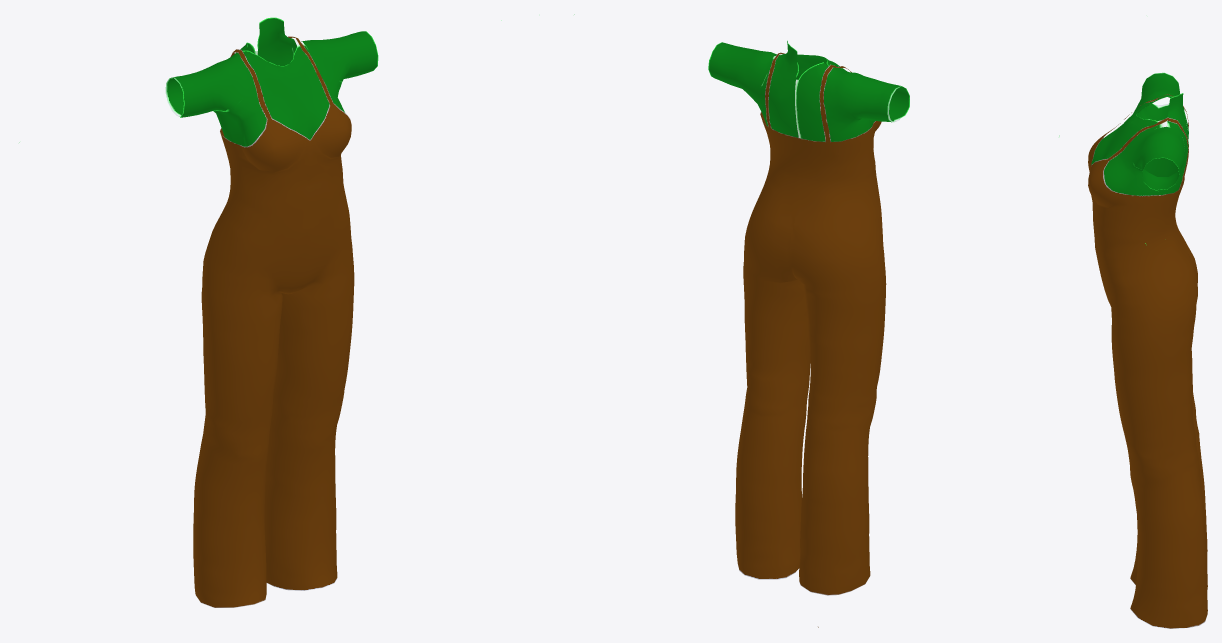
Rendered from chest-ranger.glb.
The picture shows the model from 3 angles, left to right: view 1: azimuth 30°, elevation 25°; view 2: azimuth 150°, elevation 25°; view 3: azimuth 270°, elevation 25°; orthographic projection. The views are drawn at different scales.
Visible parts, largest first — view 1: chest-ranger; view 2: chest-ranger; view 3: chest-ranger.
Part boxes in pixels (x1,y1,x2,y2): chest-ranger: [19, 17, 501, 607]; chest-ranger: [574, 14, 1059, 627]; chest-ranger: [1088, 72, 1207, 628].
Bounding box in the file's own units: 1.33 × 1.47 × 0.2897.
3 materials, 3 textured.
